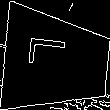L_E: (33, 43, 79, 79)
